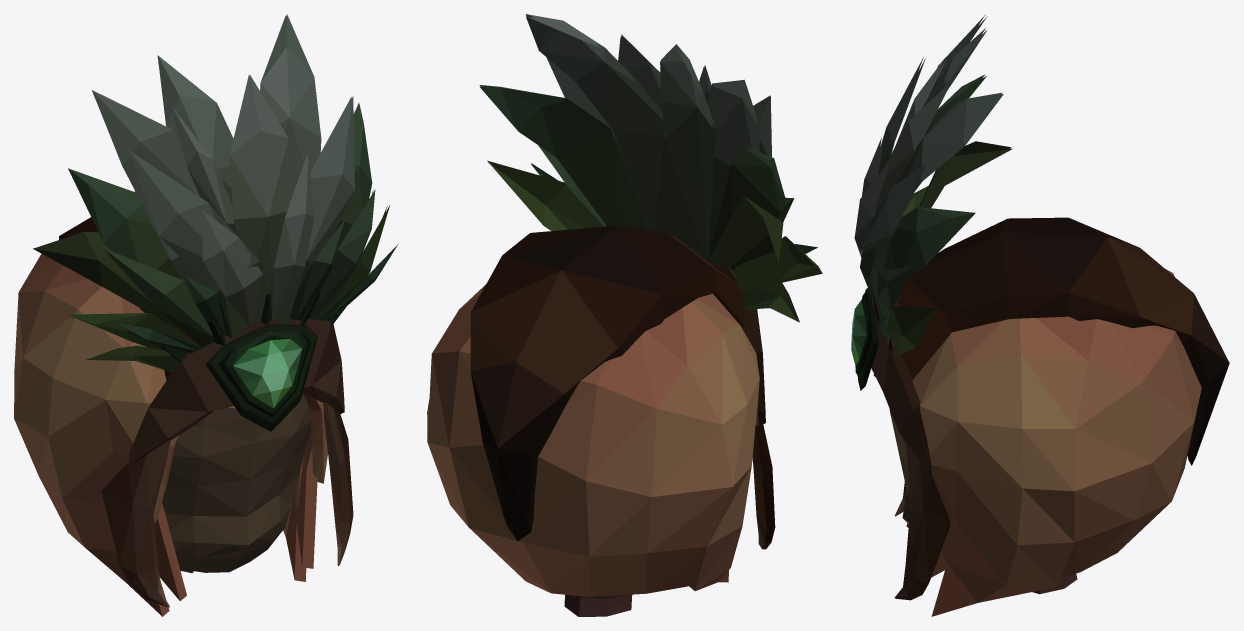
File: helm_darkskin_bob_blonde_headress.fbx
3 views of the same model, side by side, from view 1: azimuth 30°, elevation 25°; view 2: azimuth 150°, elevation 25°; view 3: azimuth 270°, elevation 25° (orthographic). The views are drawn at different scales.
Parts seen in each view (by area): view 1: helm_darkskin_bob_blonde_headress; view 2: helm_darkskin_bob_blonde_headress; view 3: helm_darkskin_bob_blonde_headress.
Boxes of the visible parts, box(x1,y1,x2,y2) form: helm_darkskin_bob_blonde_headress: box(14, 14, 398, 616); helm_darkskin_bob_blonde_headress: box(427, 14, 822, 616); helm_darkskin_bob_blonde_headress: box(851, 14, 1229, 616).
Size of the model in its own units: 1.29 by 2.07 by 1.32.
